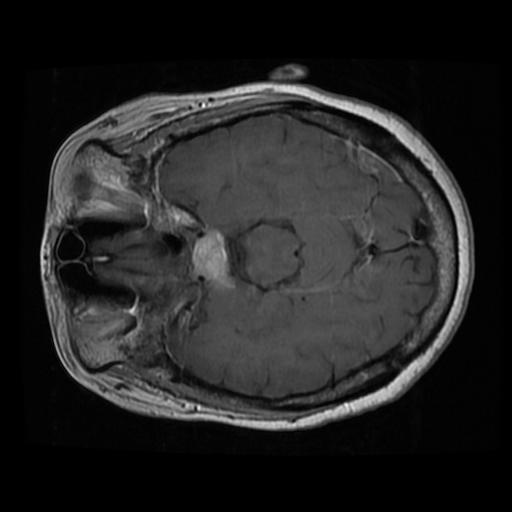pituitary tumour: (189, 231, 229, 281)
